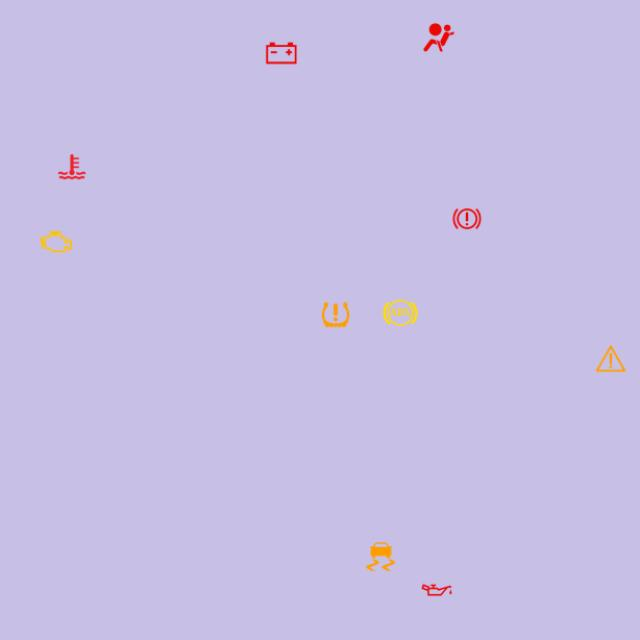Anti Lock Braking System: (382, 294, 419, 332)
Braking System Issue: (448, 200, 486, 238)
Charging System Issue: (262, 34, 300, 72)
Check Engine: (38, 223, 76, 261)
Electronic Stability Problem -ESP-: (362, 538, 399, 576)
Engine Overheating Warning Light: (53, 148, 91, 186)
Low Engine Oil Warning Light: (418, 571, 456, 609)
Low Tire Pressure Warning Light: (316, 296, 354, 334)
Master warning light: (592, 340, 630, 378)
SRS-Airbag: (420, 18, 458, 56)
